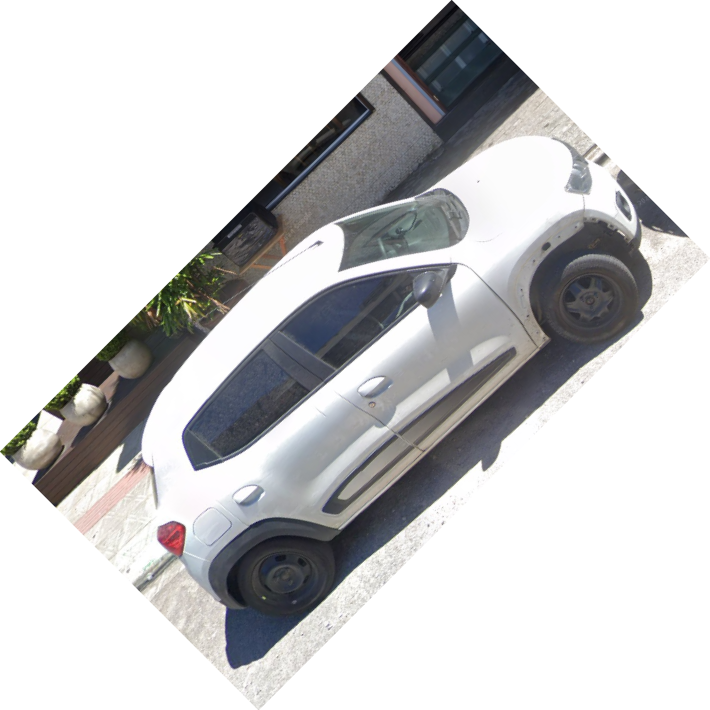car: (138, 135, 647, 616)
